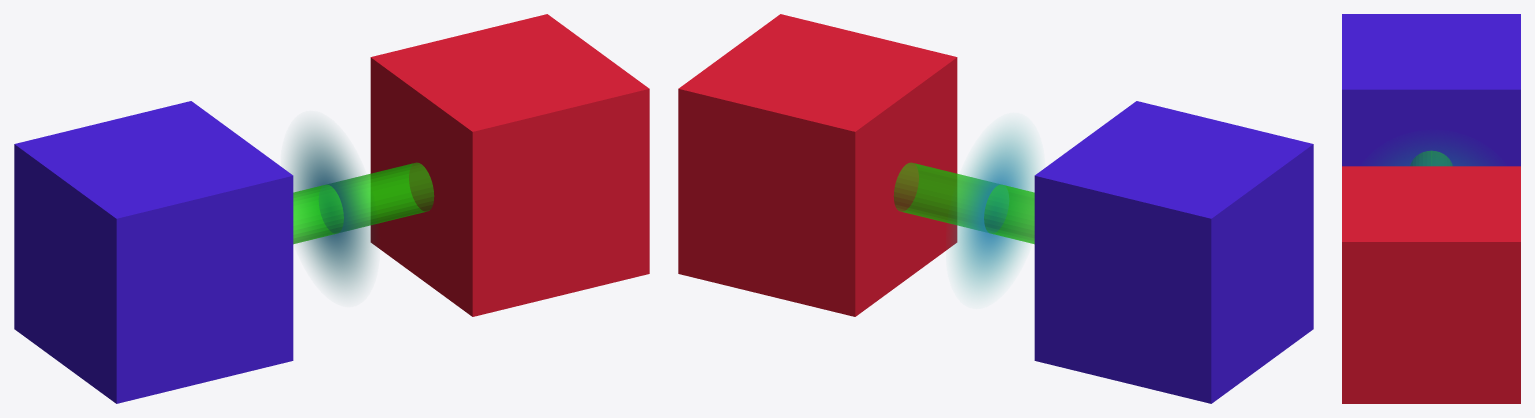
Rendered from transparency.glb.
3 renders of one model, left to right at view 1: azimuth 30°, elevation 25°; view 2: azimuth 150°, elevation 25°; view 3: azimuth 270°, elevation 25°, orthographic. The views are drawn at different scales.
Visible parts, largest first — view 1: Cube, Cube.001, Plane, Cylinder; view 2: Cube, Cube.001, Plane, Cylinder; view 3: Cube.001, Cube, Plane, Cylinder.
Part boxes in pixels (box(x1,y1,x2,y2)): Cube: box(14, 101, 293, 403); Cube.001: box(370, 14, 649, 316); Plane: box(288, 126, 372, 291); Cylinder: box(293, 162, 434, 244); Cube: box(1034, 101, 1313, 403); Cube.001: box(678, 14, 957, 316); Plane: box(953, 128, 1037, 293); Cylinder: box(893, 162, 1034, 244); Cube.001: box(1342, 166, 1520, 403); Cube: box(1342, 14, 1520, 166); Plane: box(1377, 142, 1489, 166); Cylinder: box(1410, 151, 1452, 165).
Size of the model in its own units: 6.03 by 2 by 2.
4 materials, 1 textured.
